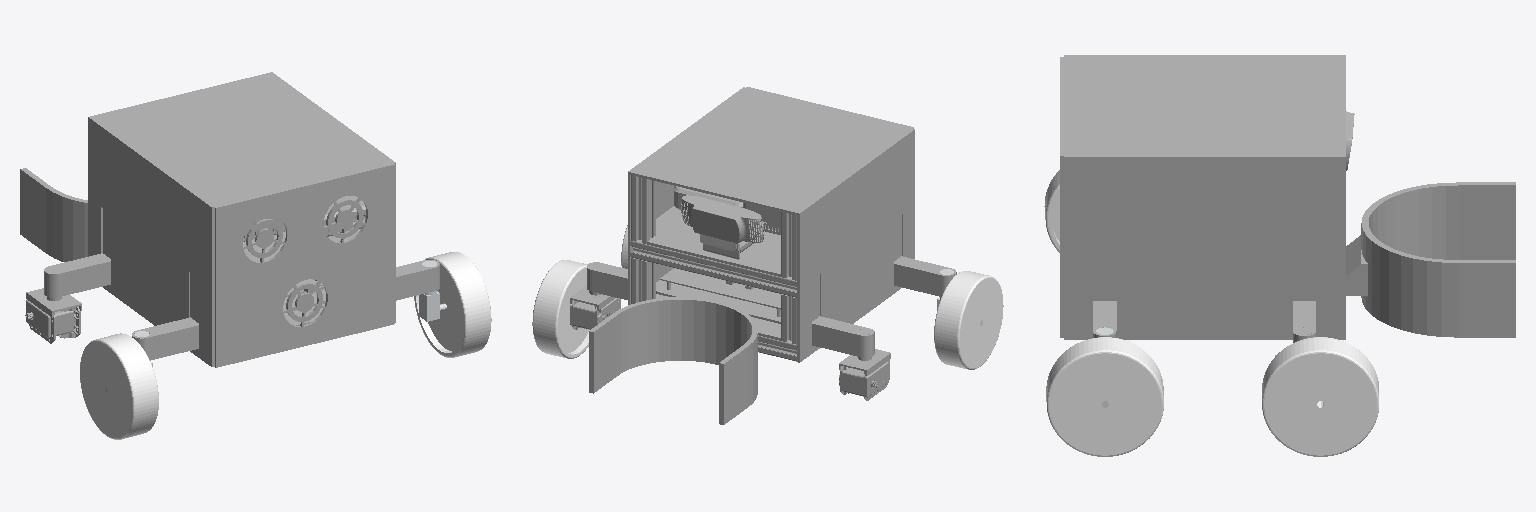
robot.urdf — 4wheel_castle2:
<?xml version="1.0" encoding="utf-8"?>
<!-- This URDF was automatically created by SolidWorks to URDF Exporter! Originally created by [author] ([email redacted]) 
     Commit Version: 1.5.1-0-g916b5db  Build Version: 1.5.7152.31018
     For more information, please see http://wiki.ros.org/sw_urdf_exporter -->
<robot
  name="4wheel_castle2">
  <link
    name="base_link">
    <inertial>
      <origin
        xyz="-0.101222450007234 0.0611878805385779 0.134712291964518"
        rpy="0 0 0" />
      <mass
        value="5.04599768700975" />
      <inertia
        ixx="0.0199585188421209"
        ixy="3.57924483955389E-07"
        ixz="-8.4963369555269E-07"
        iyy="0.0204011323429147"
        iyz="8.69413175240227E-06"
        izz="0.0133780567917248" />
    </inertial>
    <visual>
      <origin
        xyz="0 0 0"
        rpy="0 0 0" />
      <geometry>
        <mesh
          filename="package://4wheel_castle2/meshes/base_link.STL" />
      </geometry>
      <material
        name="">
        <color
          rgba="0.752941176470588 0.752941176470588 0.752941176470588 1" />
      </material>
    </visual>
    <collision>
      <origin
        xyz="0 0 0"
        rpy="0 0 0" />
      <geometry>
        <mesh
          filename="package://4wheel_castle2/meshes/base_link.STL" />
      </geometry>
    </collision>
  </link>
  <link
    name="LFS">
    <inertial>
      <origin
        xyz="0.066687521085382 -0.025617402995435 0.0272583251967583"
        rpy="0 0 0" />
      <mass
        value="0.26437001106024" />
      <inertia
        ixx="3.20746276473134E-05"
        ixy="-1.44118283521522E-07"
        ixz="-6.30853084343113E-08"
        iyy="6.22704126338856E-05"
        iyz="-2.01894652764195E-07"
        izz="6.28519936954001E-05" />
    </inertial>
    <visual>
      <origin
        xyz="0 0 0"
        rpy="0 0 0" />
      <geometry>
        <mesh
          filename="package://4wheel_castle2/meshes/LFS.STL" />
      </geometry>
      <material
        name="">
        <color
          rgba="0.752941176470588 0.752941176470588 0.752941176470588 1" />
      </material>
    </visual>
    <collision>
      <origin
        xyz="0 0 0"
        rpy="0 0 0" />
      <geometry>
        <mesh
          filename="package://4wheel_castle2/meshes/LFS.STL" />
      </geometry>
    </collision>
  </link>
  <joint
    name="LFS"
    type="prismatic">
    <origin
      xyz="-0.30216 -0.05081 0.029427"
      rpy="2.834 0 0" />
    <parent
      link="base_link" />
    <child
      link="LFS" />
    <axis
      xyz="0 0.3028 -0.95305" />
    <limit
      lower="0"
      upper="0"
      effort="0"
      velocity="0" />
  </joint>
  <link
    name="LFW">
    <inertial>
      <origin
        xyz="-0.0123157245740742 -2.77555756156289E-17 5.89805981832114E-17"
        rpy="0 0 0" />
      <mass
        value="0.193585420779862" />
      <inertia
        ixx="0.000253081141332254"
        ixy="2.03971412723716E-19"
        ixz="-4.88084416609431E-19"
        iyy="0.000136818598566517"
        iyz="8.470329472543E-22"
        izz="0.000136818598566517" />
    </inertial>
    <visual>
      <origin
        xyz="0 0 0"
        rpy="0 0 0" />
      <geometry>
        <mesh
          filename="package://4wheel_castle2/meshes/LFW.STL" />
      </geometry>
      <material
        name="">
        <color
          rgba="1 1 1 1" />
      </material>
    </visual>
    <collision>
      <origin
        xyz="0 0 0"
        rpy="0 0 0" />
      <geometry>
        <mesh
          filename="package://4wheel_castle2/meshes/LFW.STL" />
      </geometry>
    </collision>
  </link>
  <joint
    name="LFW"
    type="continuous">
    <origin
      xyz="0.00041099 -0.047479 0.052309"
      rpy="1.2177 0 -3.1416" />
    <parent
      link="LFS" />
    <child
      link="LFW" />
    <axis
      xyz="1 0 0" />
    <limit
      effort="3.1"
      velocity="7" />
  </joint>
  <link
    name="RFS">
    <inertial>
      <origin
        xyz="0.0724473276378504 -0.031683252131476 0.0253402400459296"
        rpy="0 0 0" />
      <mass
        value="0.26437001106024" />
      <inertia
        ixx="3.20746276473134E-05"
        ixy="1.44118283521257E-07"
        ixz="6.30853084344772E-08"
        iyy="6.22704126338856E-05"
        iyz="-2.01894652764195E-07"
        izz="6.28519936954001E-05" />
    </inertial>
    <visual>
      <origin
        xyz="0 0 0"
        rpy="0 0 0" />
      <geometry>
        <mesh
          filename="package://4wheel_castle2/meshes/RFS.STL" />
      </geometry>
      <material
        name="">
        <color
          rgba="0.752941176470588 0.752941176470588 0.752941176470588 1" />
      </material>
    </visual>
    <collision>
      <origin
        xyz="0 0 0"
        rpy="0 0 0" />
      <geometry>
        <mesh
          filename="package://4wheel_castle2/meshes/RFS.STL" />
      </geometry>
    </collision>
  </link>
  <joint
    name="RFS"
    type="prismatic">
    <origin
      xyz="0.10792 -0.012126 0.029427"
      rpy="2.834 0 -3.1416" />
    <parent
      link="base_link" />
    <child
      link="RFS" />
    <axis
      xyz="0 0.3028 -0.95305" />
    <limit
      lower="0"
      upper="0"
      effort="0"
      velocity="0" />
  </joint>
  <link
    name="RFW">
    <inertial>
      <origin
        xyz="-0.0123157245740813 -1.79162240598885E-14 1.12305997834738E-14"
        rpy="0 0 0" />
      <mass
        value="0.193585420779862" />
      <inertia
        ixx="0.000253081141332253"
        ixy="-1.3673578269538E-23"
        ixz="4.85282996680893E-21"
        iyy="0.000136818598566516"
        iyz="2.11758236813575E-21"
        izz="0.000136818598566517" />
    </inertial>
    <visual>
      <origin
        xyz="0 0 0"
        rpy="0 0 0" />
      <geometry>
        <mesh
          filename="package://4wheel_castle2/meshes/RFW.STL" />
      </geometry>
      <material
        name="">
        <color
          rgba="1 1 1 1" />
      </material>
    </visual>
    <collision>
      <origin
        xyz="0 0 0"
        rpy="0 0 0" />
      <geometry>
        <mesh
          filename="package://4wheel_castle2/meshes/RFW.STL" />
      </geometry>
    </collision>
  </link>
  <joint
    name="RFW"
    type="continuous">
    <origin
      xyz="0.0061708 -0.028286 0.058405"
      rpy="-1.8458 0 -3.1416" />
    <parent
      link="RFS" />
    <child
      link="RFW" />
    <axis
      xyz="1 0 0" />
    <limit
      effort="3.1"
      velocity="7" />
  </joint>
  <link
    name="LBS">
    <inertial>
      <origin
        xyz="0.0754022136877305 -0.0185153363770946 0.00606146490620672"
        rpy="0 0 0" />
      <mass
        value="0.197009126147877" />
      <inertia
        ixx="1.68802738687172E-05"
        ixy="2.03377162002092E-19"
        ixz="-1.62743895450457E-19"
        iyy="5.02184885667569E-05"
        iyz="1.0508875929185E-06"
        izz="4.72447473350486E-05" />
    </inertial>
    <visual>
      <origin
        xyz="0 0 0"
        rpy="0 0 0" />
      <geometry>
        <mesh
          filename="package://4wheel_castle2/meshes/LBS.STL" />
      </geometry>
      <material
        name="">
        <color
          rgba="0.752941176470588 0.752941176470588 0.752941176470588 1" />
      </material>
    </visual>
    <collision>
      <origin
        xyz="0 0 0"
        rpy="0 0 0" />
      <geometry>
        <mesh
          filename="package://4wheel_castle2/meshes/LBS.STL" />
      </geometry>
    </collision>
  </link>
  <joint
    name="LBS"
    type="prismatic">
    <origin
      xyz="-0.30216 -0.18919 -0.0088855"
      rpy="-0.30763 0 0" />
    <parent
      link="base_link" />
    <child
      link="LBS" />
    <axis
      xyz="0 0.3028 -0.95305" />
    <limit
      lower="0"
      upper="0"
      effort="0"
      velocity="0" />
  </joint>
  <link
    name="LBC">
    <inertial>
      <origin
        xyz="0.00212675678752455 -0.00813942181370025 8.32667268468867E-17"
        rpy="0 0 0" />
      <mass
        value="0.0337925918529465" />
      <inertia
        ixx="9.90778459294071E-06"
        ixy="1.27793980168018E-06"
        ixz="9.26442286059391E-22"
        iyy="2.88462343109061E-06"
        iyz="-2.60439166600042E-21"
        izz="1.17553584577796E-05" />
    </inertial>
    <visual>
      <origin
        xyz="0 0 0"
        rpy="0 0 0" />
      <geometry>
        <mesh
          filename="package://4wheel_castle2/meshes/LBC.STL" />
      </geometry>
      <material
        name="">
        <color
          rgba="0.898039215686275 0.917647058823529 0.929411764705882 1" />
      </material>
    </visual>
    <collision>
      <origin
        xyz="0 0 0"
        rpy="0 0 0" />
      <geometry>
        <mesh
          filename="package://4wheel_castle2/meshes/LBC.STL" />
      </geometry>
    </collision>
  </link>
  <joint
    name="LBC"
    type="continuous">
    <origin
      xyz="0.041161 -0.015068 -0.0047875"
      rpy="1.2633 0.010191 -3.1095" />
    <parent
      link="LBS" />
    <child
      link="LBC" />
    <axis
      xyz="0 1 0" />
  </joint>
  <link
    name="LBW">
    <inertial>
      <origin
        xyz="0.0176502966215443 0.00670416394411996 -0.00607674202774335"
        rpy="0 0 0" />
      <mass
        value="0.193585420779862" />
      <inertia
        ixx="0.000253081141332254"
        ixy="-1.75971094792081E-19"
        ixz="8.40680200149893E-20"
        iyy="0.000136818598566517"
        iyz="-4.06575814682064E-20"
        izz="0.000136818598566517" />
    </inertial>
    <visual>
      <origin
        xyz="0 0 0"
        rpy="0 0 0" />
      <geometry>
        <mesh
          filename="package://4wheel_castle2/meshes/LBW.STL" />
      </geometry>
      <material
        name="">
        <color
          rgba="1 1 1 1" />
      </material>
    </visual>
    <collision>
      <origin
        xyz="0 0 0"
        rpy="0 0 0" />
      <geometry>
        <mesh
          filename="package://4wheel_castle2/meshes/LBW.STL" />
      </geometry>
    </collision>
  </link>
  <joint
    name="LBW"
    type="continuous">
    <origin
      xyz="0.010784 -0.016873 0"
      rpy="-2.4052 0 0" />
    <parent
      link="LBC" />
    <child
      link="LBW" />
    <axis
      xyz="1 0 0" />
    <limit
      effort="3.1"
      velocity="7" />
  </joint>
  <link
    name="RBS">
    <inertial>
      <origin
        xyz="0.0754022136877307 -0.00953574862501527 -0.0222014198592471"
        rpy="0 0 0" />
      <mass
        value="0.197009126147877" />
      <inertia
        ixx="1.68802738687173E-05"
        ixy="-8.62079149672795E-20"
        ixz="-8.64915829020865E-21"
        iyy="5.0218488566757E-05"
        iyz="1.0508875929185E-06"
        izz="4.72447473350487E-05" />
    </inertial>
    <visual>
      <origin
        xyz="0 0 0"
        rpy="0 0 0" />
      <geometry>
        <mesh
          filename="package://4wheel_castle2/meshes/RBS.STL" />
      </geometry>
      <material
        name="">
        <color
          rgba="0.752941176470588 0.752941176470588 0.752941176470588 1" />
      </material>
    </visual>
    <collision>
      <origin
        xyz="0 0 0"
        rpy="0 0 0" />
      <geometry>
        <mesh
          filename="package://4wheel_castle2/meshes/RBS.STL" />
      </geometry>
    </collision>
  </link>
  <joint
    name="RBS"
    type="prismatic">
    <origin
      xyz="0.10216 -0.18919 -0.015774"
      rpy="2.834 0 -3.1416" />
    <parent
      link="base_link" />
    <child
      link="RBS" />
    <axis
      xyz="0 0.3028 -0.95305" />
    <limit
      lower="0"
      upper="0"
      effort="0"
      velocity="0" />
  </joint>
  <link
    name="RBC">
    <inertial>
      <origin
        xyz="0.0021268 -0.0012511 0"
        rpy="0 0 0" />
      <mass
        value="0.033793" />
      <inertia
        ixx="9.9078E-06"
        ixy="1.2779E-06"
        ixz="-5.4263E-22"
        iyy="2.8846E-06"
        iyz="-2.3326E-21"
        izz="1.1755E-05" />
    </inertial>
    <visual>
      <origin
        xyz="0 0 0"
        rpy="0 0 0" />
      <geometry>
        <mesh
          filename="package://4wheel_castle2/meshes/RBC.STL" />
      </geometry>
      <material
        name="">
        <color
          rgba="0.89804 0.91765 0.92941 1" />
      </material>
    </visual>
    <collision>
      <origin
        xyz="0 0 0"
        rpy="0 0 0" />
      <geometry>
        <mesh
          filename="package://4wheel_castle2/meshes/RBC.STL" />
      </geometry>
    </collision>
  </link>
  <joint
    name="RBC"
    type="continuous">
    <origin
      xyz="0.041161 -0.015068 -0.0047875"
      rpy="-1.8784 -0.003856 3.1295" />
    <parent
      link="RBS" />
    <child
      link="RBC" />
    <axis
      xyz="0 1 0" />
  </joint>
  <link
    name="RBW">
    <inertial>
      <origin
        xyz="0.017679 -9.089E-05 -0.0021581"
        rpy="0 0 0" />
      <mass
        value="0.19359" />
      <inertia
        ixx="0.00025308"
        ixy="9.8997E-20"
        ixz="8.8197E-19"
        iyy="0.00013682"
        iyz="4.2352E-22"
        izz="0.00013682" />
    </inertial>
    <visual>
      <origin
        xyz="0 0 0"
        rpy="0 0 0" />
      <geometry>
        <mesh
          filename="package://4wheel_castle2/meshes/RBW.STL" />
      </geometry>
      <material
        name="">
        <color
          rgba="1 1 1 1" />
      </material>
    </visual>
    <collision>
      <origin
        xyz="0 0 0"
        rpy="0 0 0" />
      <geometry>
        <mesh
          filename="package://4wheel_castle2/meshes/RBW.STL" />
      </geometry>
    </collision>
  </link>
  <joint
    name="RBW"
    type="continuous">
    <origin
      xyz="0.010755 -0.016873 0"
      rpy="-1.5287 0 0" />
    <parent
      link="RBC" />
    <child
      link="RBW" />
    <axis
      xyz="1 0 0" />
    <limit
      effort="3.1"
      velocity="7" />
  </joint>
  <link
    name="Lidar">
    <inertial>
      <origin
        xyz="-0.078493 0.74443 0.13345"
        rpy="0 0 0" />
      <mass
        value="0.073085" />
      <inertia
        ixx="1.9581E-05"
        ixy="-4.2839E-07"
        ixz="1.0393E-07"
        iyy="4.1418E-05"
        iyz="-9.4273E-09"
        izz="2.4125E-05" />
    </inertial>
    <visual>
      <origin
        xyz="0 0 0"
        rpy="0 0 0" />
      <geometry>
        <mesh
          filename="package://4wheel_castle2/meshes/Lidar.STL" />
      </geometry>
      <material
        name="">
        <color
          rgba="0.79216 0.81961 0.93333 1" />
      </material>
    </visual>
    <collision>
      <origin
        xyz="0 0 0"
        rpy="0 0 0" />
      <geometry>
        <mesh
          filename="package://4wheel_castle2/meshes/Lidar.STL" />
      </geometry>
    </collision>
  </link>
  <joint
    name="Lidar"
    type="fixed">
    <origin
      xyz="-0.23716 0.016589 -0.56869"
      rpy="1.5708 0 1.5973" />
    <parent
      link="base_link" />
    <child
      link="Lidar" />
    <axis
      xyz="0 0 0" />
  </joint>
  <link
    name="Cam">
    <inertial>
      <origin
        xyz="-0.023886 -0.025501 0.093335"
        rpy="0 0 0" />
      <mass
        value="0.084224" />
      <inertia
        ixx="1.3967E-05"
        ixy="-8.8168E-10"
        ixz="-1.0104E-09"
        iyy="3.6726E-05"
        iyz="-1.5151E-06"
        izz="3.0115E-05" />
    </inertial>
    <visual>
      <origin
        xyz="0 0 0"
        rpy="0 0 0" />
      <geometry>
        <mesh
          filename="package://4wheel_castle2/meshes/Cam.STL" />
      </geometry>
      <material
        name="">
        <color
          rgba="0.75294 0.75294 0.75294 1" />
      </material>
    </visual>
    <collision>
      <origin
        xyz="0 0 0"
        rpy="0 0 0" />
      <geometry>
        <mesh
          filename="package://4wheel_castle2/meshes/Cam.STL" />
      </geometry>
    </collision>
  </link>
  <joint
    name="Cam"
    type="fixed">
    <origin
      xyz="-0.13188 -0.10697 0.14474"
      rpy="1.7188 0 3.1056" />
    <parent
      link="base_link" />
    <child
      link="Cam" />
    <axis
      xyz="0 0 0" />
  </joint>
</robot>

--- Facts derived from the render (not from the file) ---
3 views of the same robot in one strip: view 1: azimuth 30°, elevation 25°; view 2: azimuth 150°, elevation 25°; view 3: azimuth 270°, elevation 25° (orthographic).
Model 4wheel_castle2 with 13 links and 12 joints (6 continuous, 4 prismatic, 2 fixed), rooted at base_link, posed all joints at 0.
Links seen in each view (by area): view 1: base_link, LBW, RBW, LFS, LBS, RBS, RBC; view 2: base_link, LBW, RFW, LFS, Cam, RFS, LBS; view 3: base_link, RFW, RBW, LBW, RFS, RBS.
Boxes of the visible links, x1=… form: base_link: x1=20, y1=72, x2=395, y2=367; LBW: x1=80, y1=333, x2=158, y2=439; RBW: x1=414, y1=252, x2=491, y2=357; LFS: x1=25, y1=253, x2=110, y2=343; LBS: x1=132, y1=317, x2=198, y2=360; RBS: x1=396, y1=260, x2=439, y2=300; RBC: x1=419, y1=261, x2=446, y2=321; base_link: x1=589, y1=87, x2=914, y2=424; LBW: x1=934, y1=271, x2=1003, y2=369; RFW: x1=532, y1=260, x2=589, y2=358; LFS: x1=812, y1=316, x2=890, y2=400; Cam: x1=681, y1=195, x2=763, y2=259; RFS: x1=570, y1=262, x2=627, y2=329; LBS: x1=894, y1=256, x2=956, y2=296; base_link: x1=1060, y1=55, x2=1515, y2=339; RFW: x1=1262, y1=337, x2=1378, y2=456; RBW: x1=1046, y1=337, x2=1163, y2=456; LBW: x1=1044, y1=170, x2=1059, y2=252; RFS: x1=1275, y1=301, x2=1315, y2=355; RBS: x1=1093, y1=301, x2=1116, y2=337.
Bounding box of the posed robot: 0.4057 × 0.4006 × 0.2358 m (x, y, z).
11 mesh visuals loaded from 13 distinct referenced files (11 binary STL); not drawn: 2 (reference not matched to a file when rendering).
